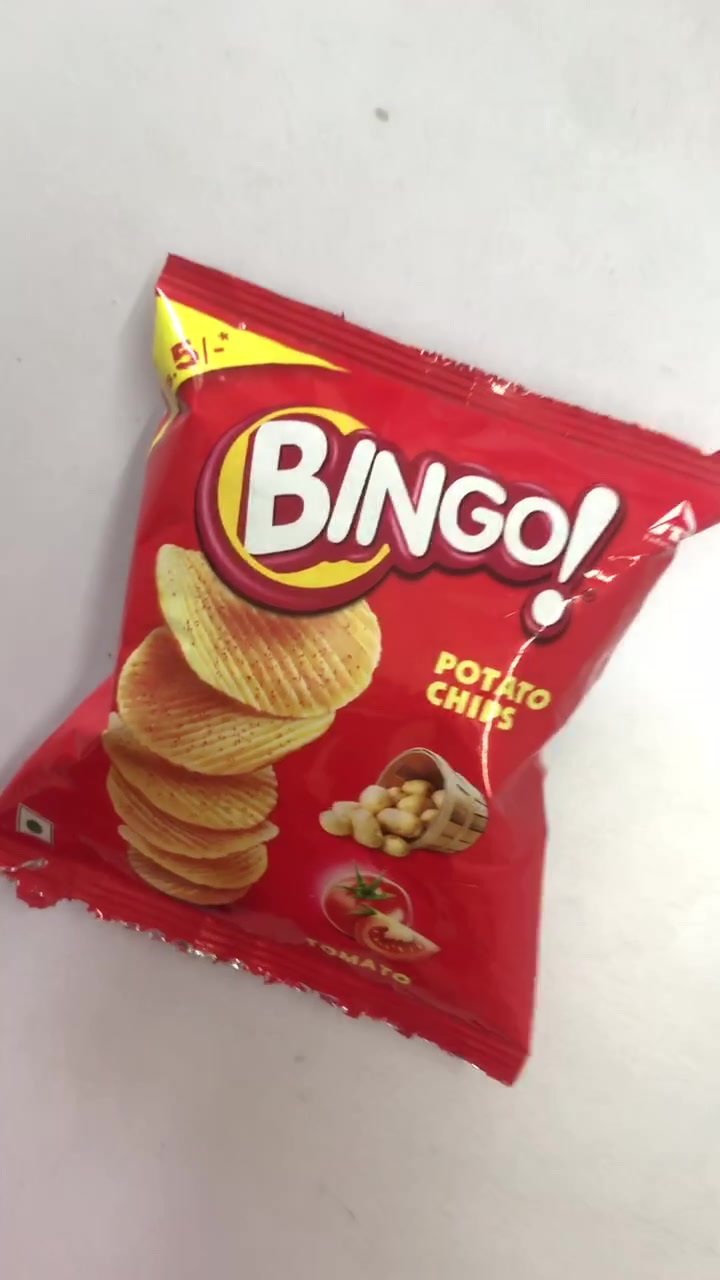Bingo: (1, 256, 720, 1082)
